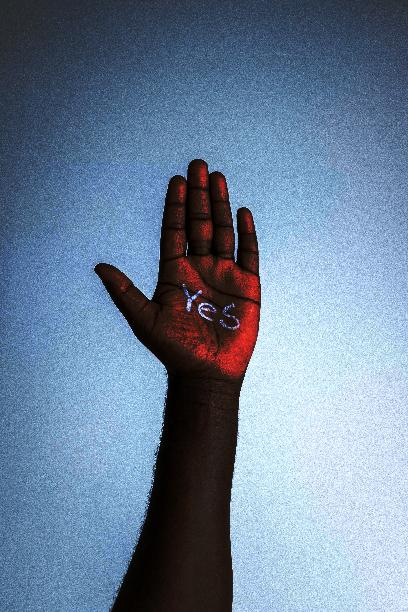Paper: (92, 155, 264, 389)
